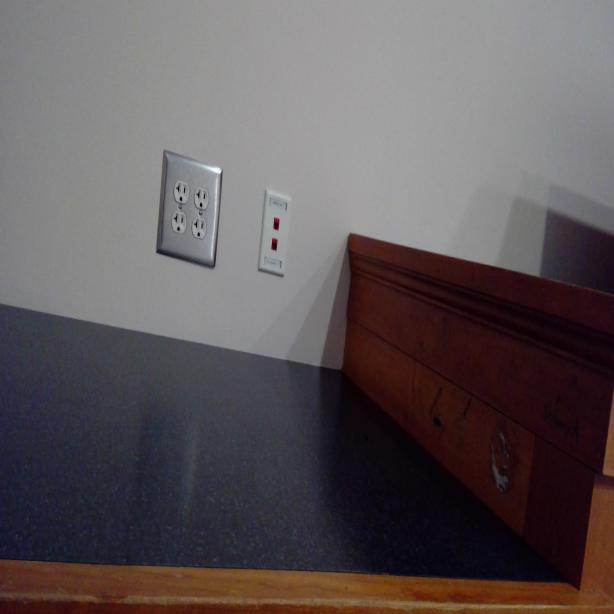typeb: (169, 210, 187, 238), (173, 177, 190, 204), (194, 183, 210, 209), (191, 214, 206, 240)
